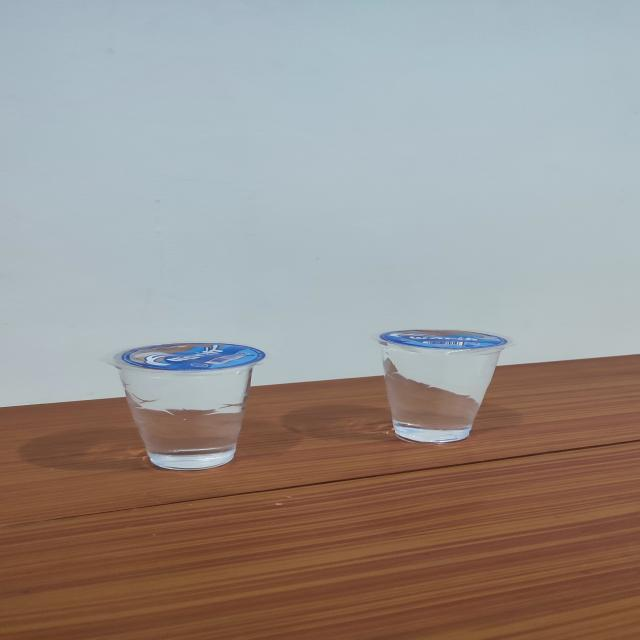air gelas: (109, 335, 283, 473), (359, 321, 518, 444)
